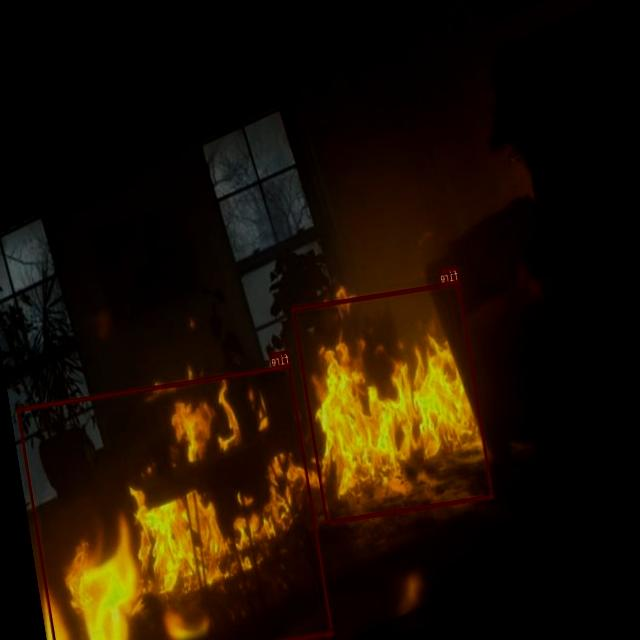fire: (17, 363, 334, 640), (292, 280, 493, 524)
